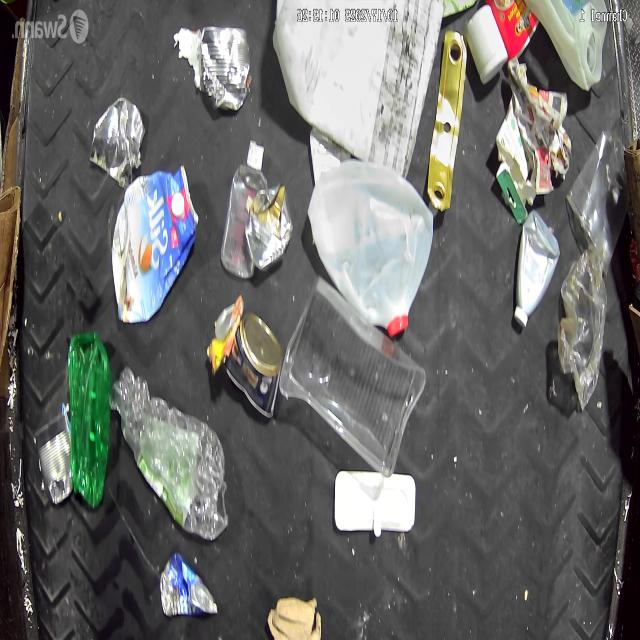can: (227, 312, 282, 418), (198, 21, 252, 115), (91, 93, 146, 185), (245, 185, 292, 271), (158, 551, 218, 617), (34, 411, 72, 504)
milk_jug: (307, 163, 433, 338), (525, 0, 608, 91)
non_white_jug: (112, 168, 197, 323)
